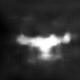plane: (15, 30, 75, 61)
